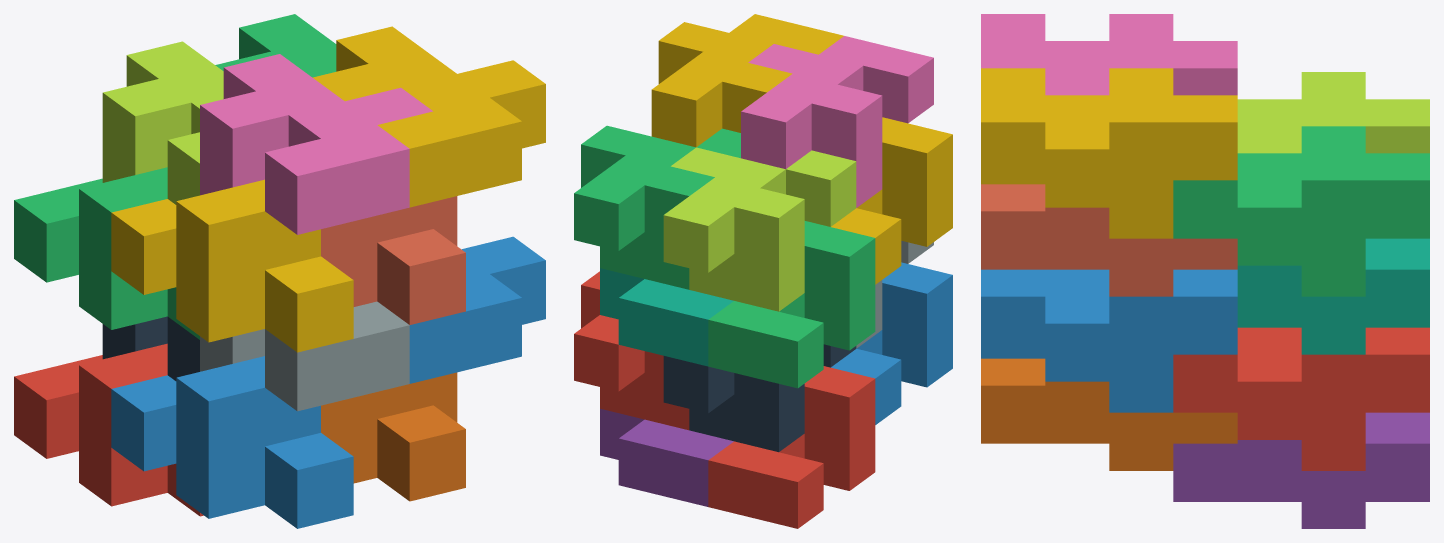
Rendered from tiling.obj.
The picture shows the model from 3 angles, left to right: view 1: azimuth 30°, elevation 25°; view 2: azimuth 150°, elevation 25°; view 3: azimuth 270°, elevation 25°; orthographic projection. The views are drawn at different scales.
Parts seen in each view (by area): view 1: copy_2_domain_4, copy_1_domain_2, copy_1_domain_4, copy_2_domain_8, copy_1_domain_1, copy_1_domain_3, copy_2_domain_3, copy_1_domain_6, copy_1_domain_8, copy_2_domain_6, copy_2_domain_2, copy_2_domain_7 (+1 smaller); view 2: copy_2_domain_3, copy_2_domain_4, copy_1_domain_3, copy_1_domain_1, copy_2_domain_7, copy_2_domain_8, copy_1_domain_4, copy_1_domain_2, copy_2_domain_1, copy_2_domain_5, copy_1_domain_7, copy_1_domain_5 (+1 smaller); view 3: copy_2_domain_8, copy_2_domain_7, copy_2_domain_6, copy_2_domain_5, copy_1_domain_5, copy_1_domain_8, copy_1_domain_6, copy_2_domain_4, copy_1_domain_7, copy_2_domain_3.
Boxes of the visible parts, x1,y1,x2,y2 form: copy_2_domain_4: [200, 54, 432, 234]; copy_1_domain_2: [111, 356, 353, 528]; copy_1_domain_4: [111, 179, 353, 352]; copy_2_domain_8: [312, 26, 545, 207]; copy_1_domain_1: [14, 343, 203, 516]; copy_1_domain_3: [14, 167, 199, 339]; copy_2_domain_3: [102, 41, 223, 204]; copy_1_domain_6: [321, 372, 465, 501]; copy_1_domain_8: [321, 196, 465, 324]; copy_2_domain_6: [409, 236, 545, 383]; copy_2_domain_2: [200, 301, 409, 411]; copy_2_domain_7: [215, 14, 336, 77]; copy_2_domain_3: [663, 147, 856, 311]; copy_2_domain_4: [741, 36, 933, 207]; copy_1_domain_3: [708, 221, 875, 388]; copy_1_domain_1: [708, 366, 875, 528]; copy_2_domain_7: [574, 125, 740, 289]; copy_2_domain_8: [651, 14, 843, 147]; copy_1_domain_4: [831, 117, 952, 284]; copy_1_domain_2: [831, 262, 952, 424]; copy_2_domain_1: [663, 344, 856, 452]; copy_2_domain_5: [574, 271, 689, 430]; copy_1_domain_7: [600, 268, 733, 366]; copy_1_domain_5: [600, 408, 733, 506]; copy_2_domain_8: [981, 68, 1237, 238]; copy_2_domain_7: [1173, 126, 1429, 296]; copy_2_domain_6: [981, 269, 1237, 412]; copy_2_domain_5: [1173, 327, 1429, 470]; copy_1_domain_5: [1173, 412, 1429, 528]; copy_1_domain_8: [981, 184, 1237, 296]; copy_1_domain_6: [981, 358, 1237, 470]; copy_2_domain_4: [981, 14, 1237, 95]; copy_1_domain_7: [1237, 238, 1429, 354]; copy_2_domain_3: [1237, 72, 1429, 153].
Size of the model in its own units: 6 by 7 by 7.
